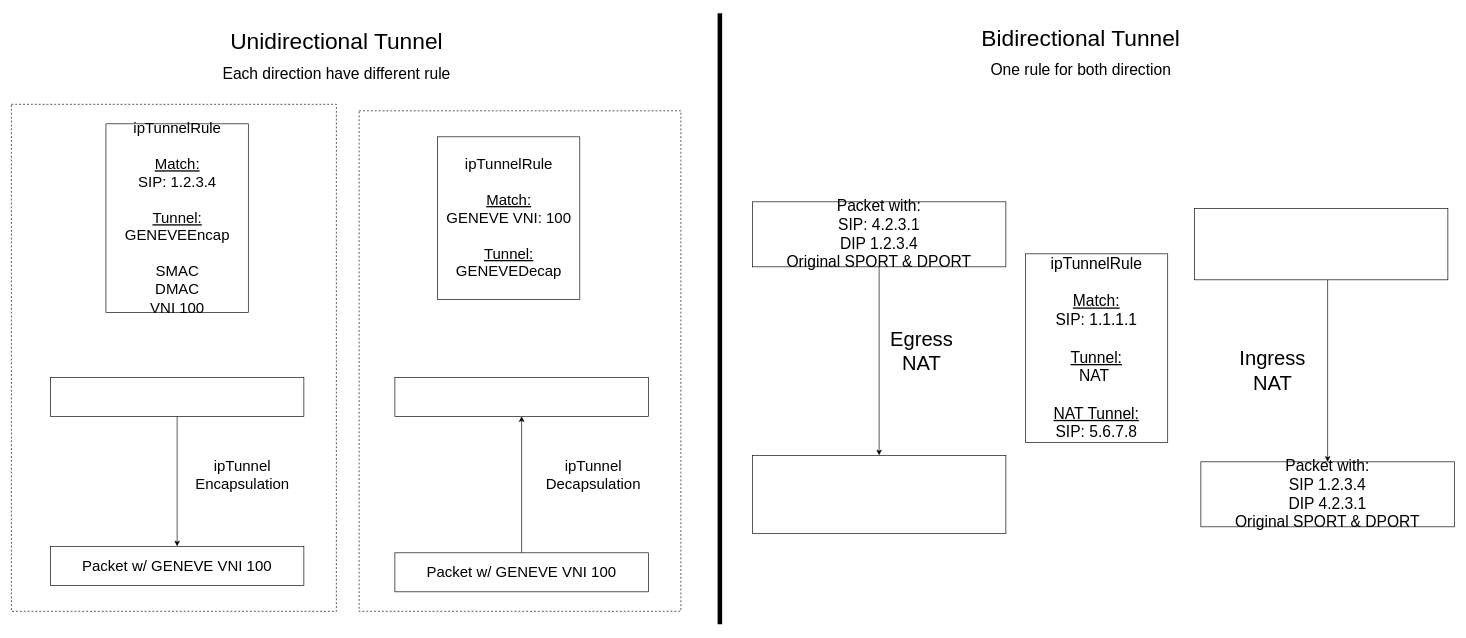
The diagram is 1466 pixels wide and 638 high, and some of its shapes have lost their labels. Each missing label, with the centre of its shape:
Packet w/o GENEVE: the point at 521,396
Packet w/o GENEVE SIP: 1.2.3.4: the point at 177,396
Packet with: SIP 1.2.3.4 DIP 5.6.7.8 DPort: 4368: the point at 1321,244
Packet: SIP 5.6.7.8 DIP 1.2.3.4 SPort: 4368 (Assigned by NAT): the point at 879,494
